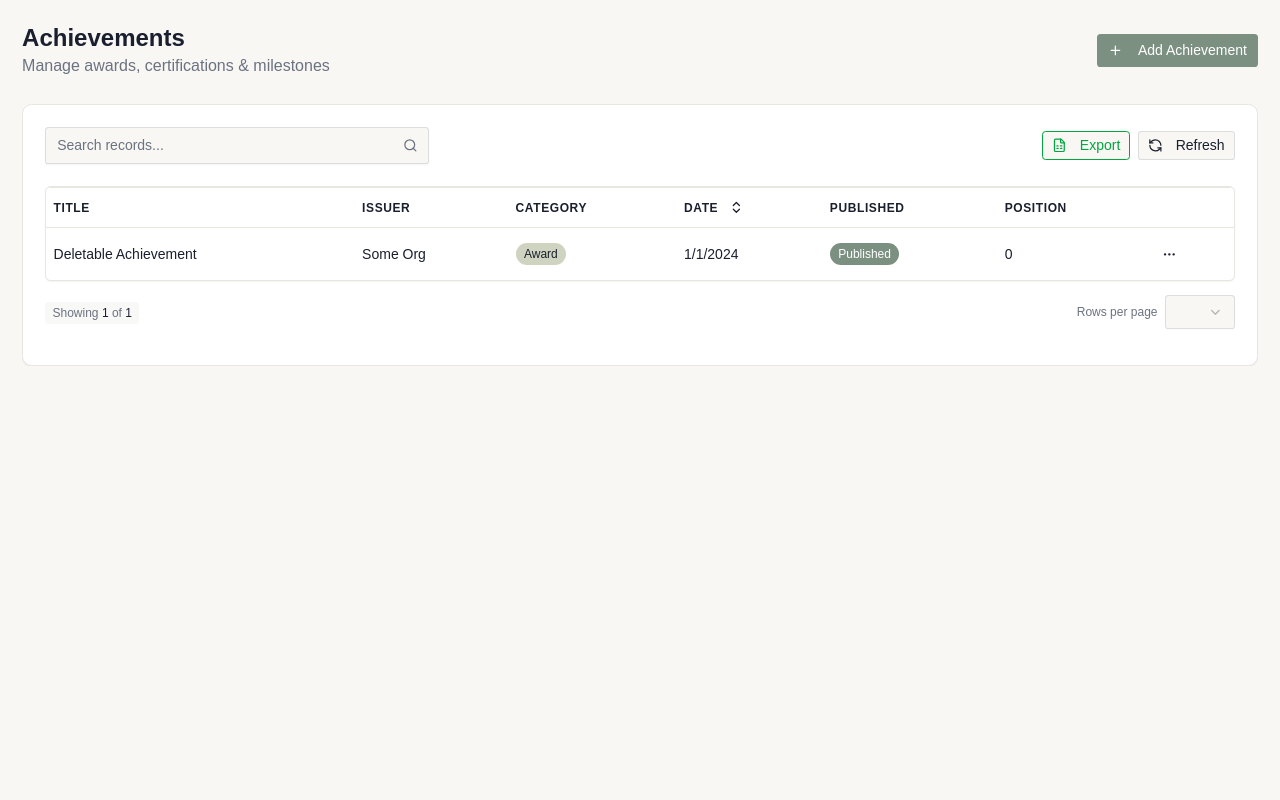
Test: AchievementManager - delete flow › submits a delete request, refreshes the list, and toasts on success
Expected: the text "Deletable Achievement" is shown, [54,246,197,262]
Press the mouse on the button named "open menu" at (1170, 254), box [1155,239,1184,269]
Click the button named "open menu" at (1170, 254), box [1155,239,1184,269]
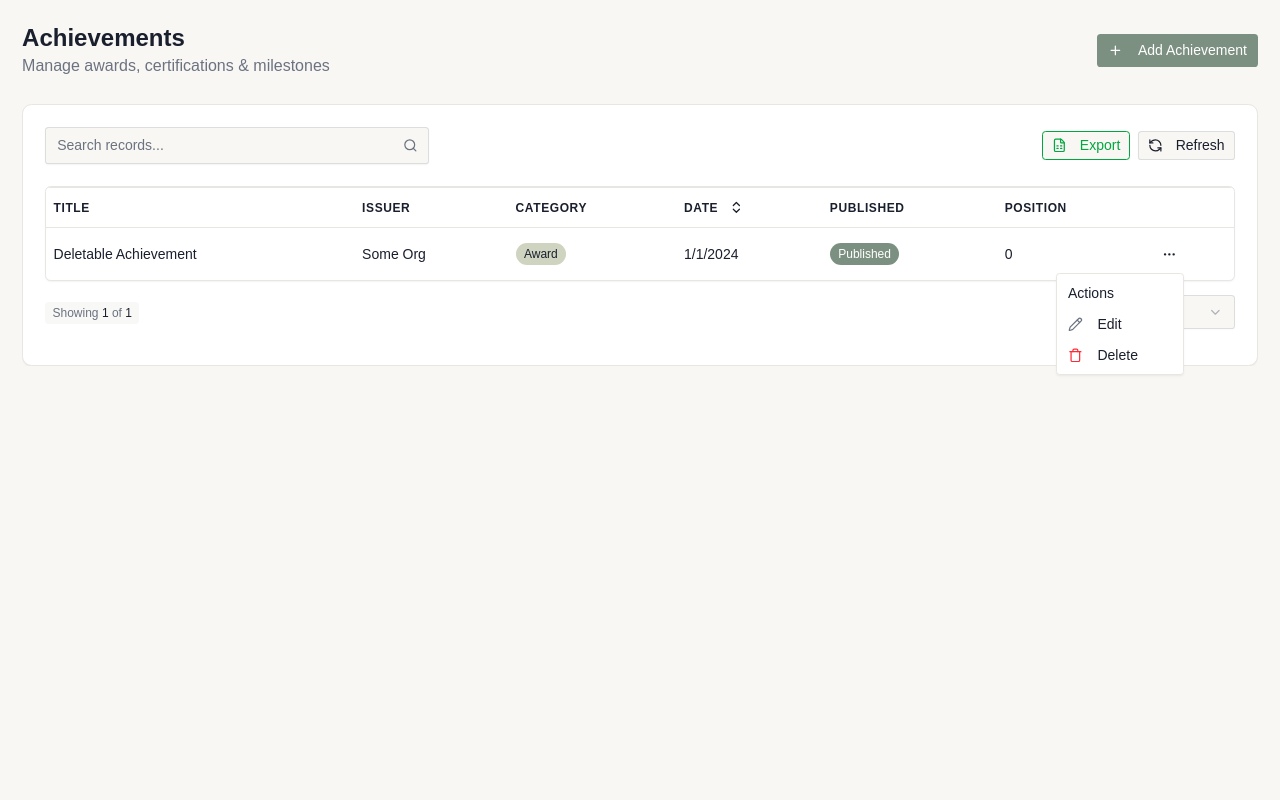
Click the menu item "Delete" at (1103, 355), box [1068,347,1138,363]
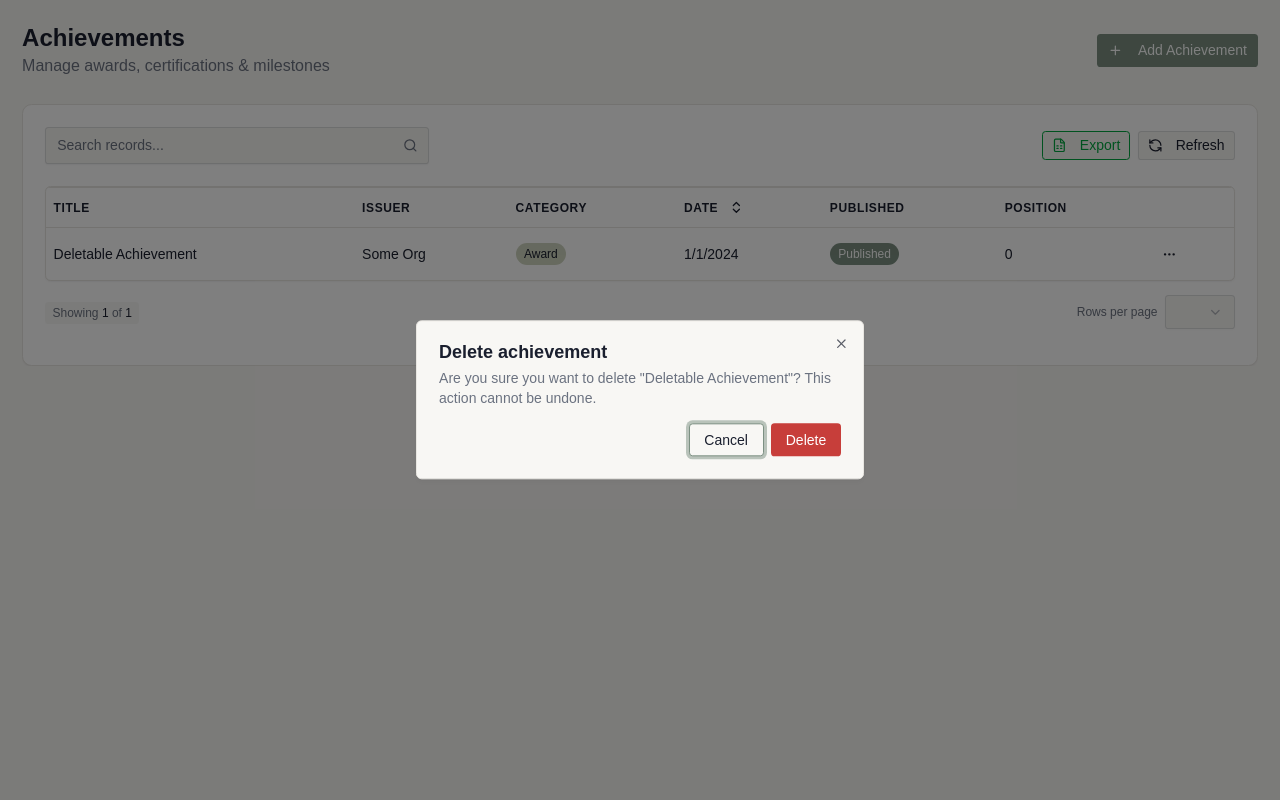
Now the heading "Delete achievement" is shown, box [439,342,607,362]
Click the button "Delete" at (806, 440), box [771,424,841,457]
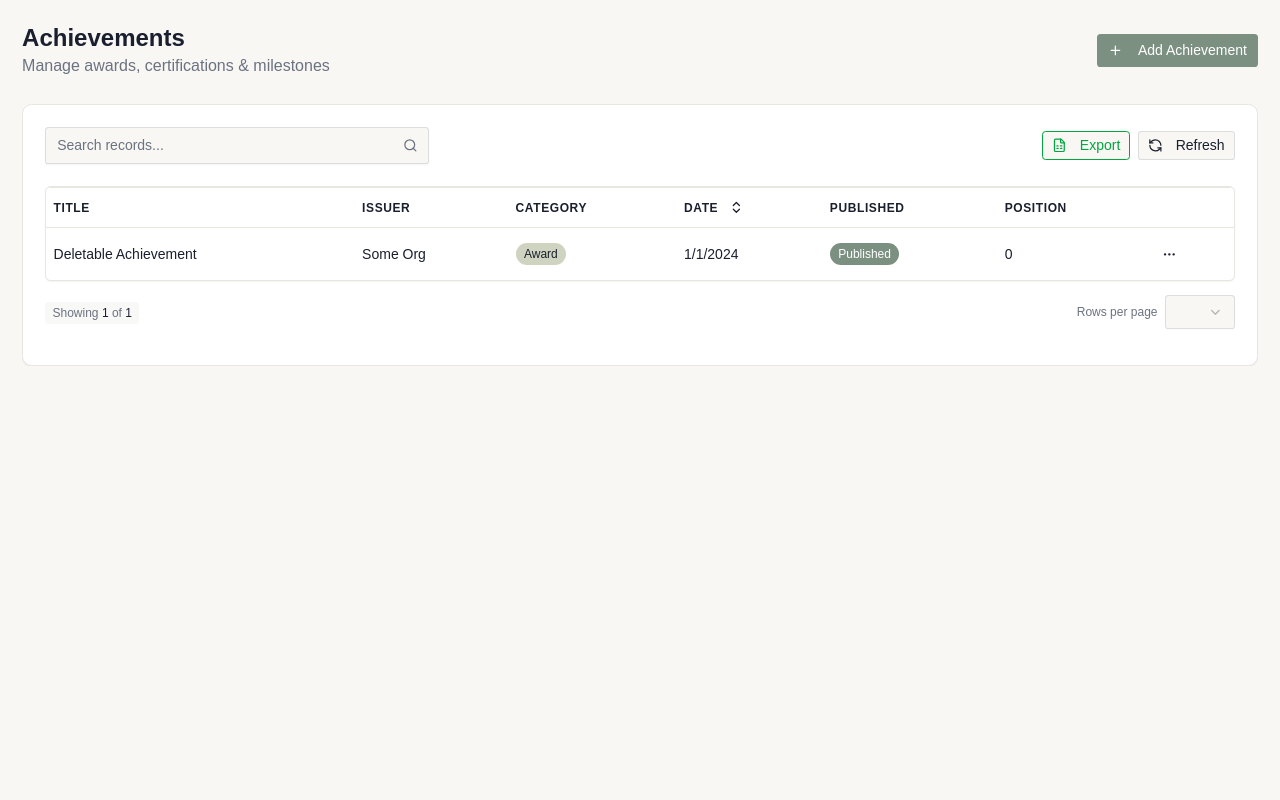
Now the dialog is gone
